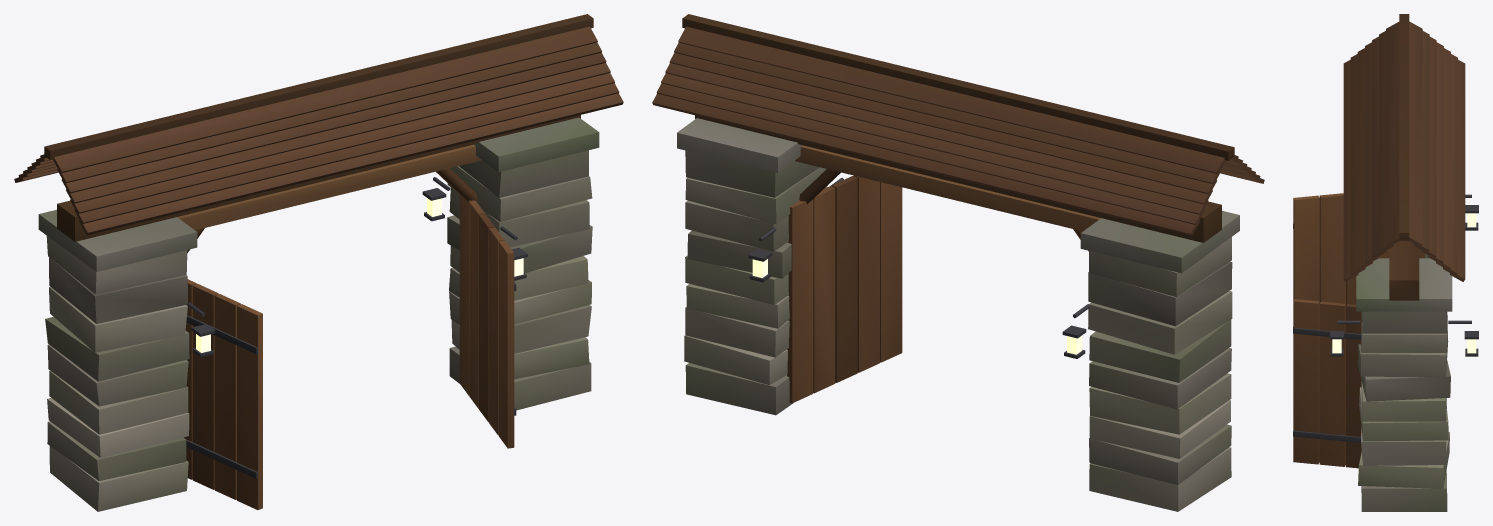
The model's file is town_gate.glb.
The picture shows the model from 3 angles, left to right: view 1: azimuth 30°, elevation 25°; view 2: azimuth 150°, elevation 25°; view 3: azimuth 270°, elevation 25°; orthographic projection. The views are drawn at different scales.
Visible parts, largest first — view 1: town_gate; view 2: town_gate; view 3: town_gate.
Boxes of the visible parts, box(x1,y1,x2,y2) form: town_gate: box(14, 14, 623, 511); town_gate: box(652, 14, 1264, 511); town_gate: box(1293, 14, 1478, 511).
Size of the model in its own units: 7.3 by 4.51 by 2.62.
